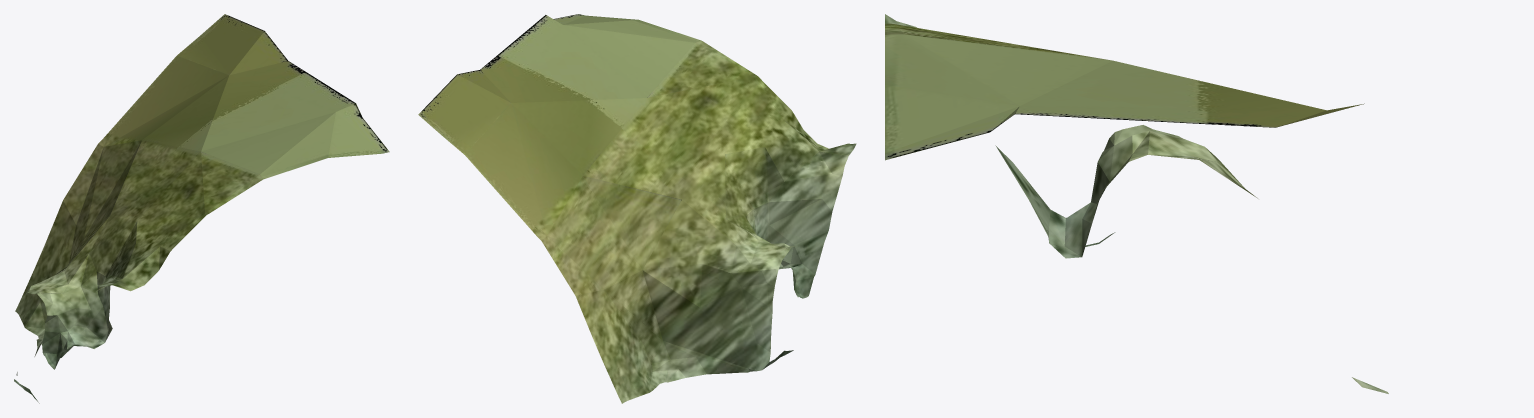
3 renders of one model, left to right at view 1: azimuth 30°, elevation 25°; view 2: azimuth 150°, elevation 25°; view 3: azimuth 270°, elevation 25°, orthographic. The views are drawn at different scales.
Size of the model in its own units: 5.9 by 5.1 by 5.9.
Materials: 3 (3 with a texture image).
